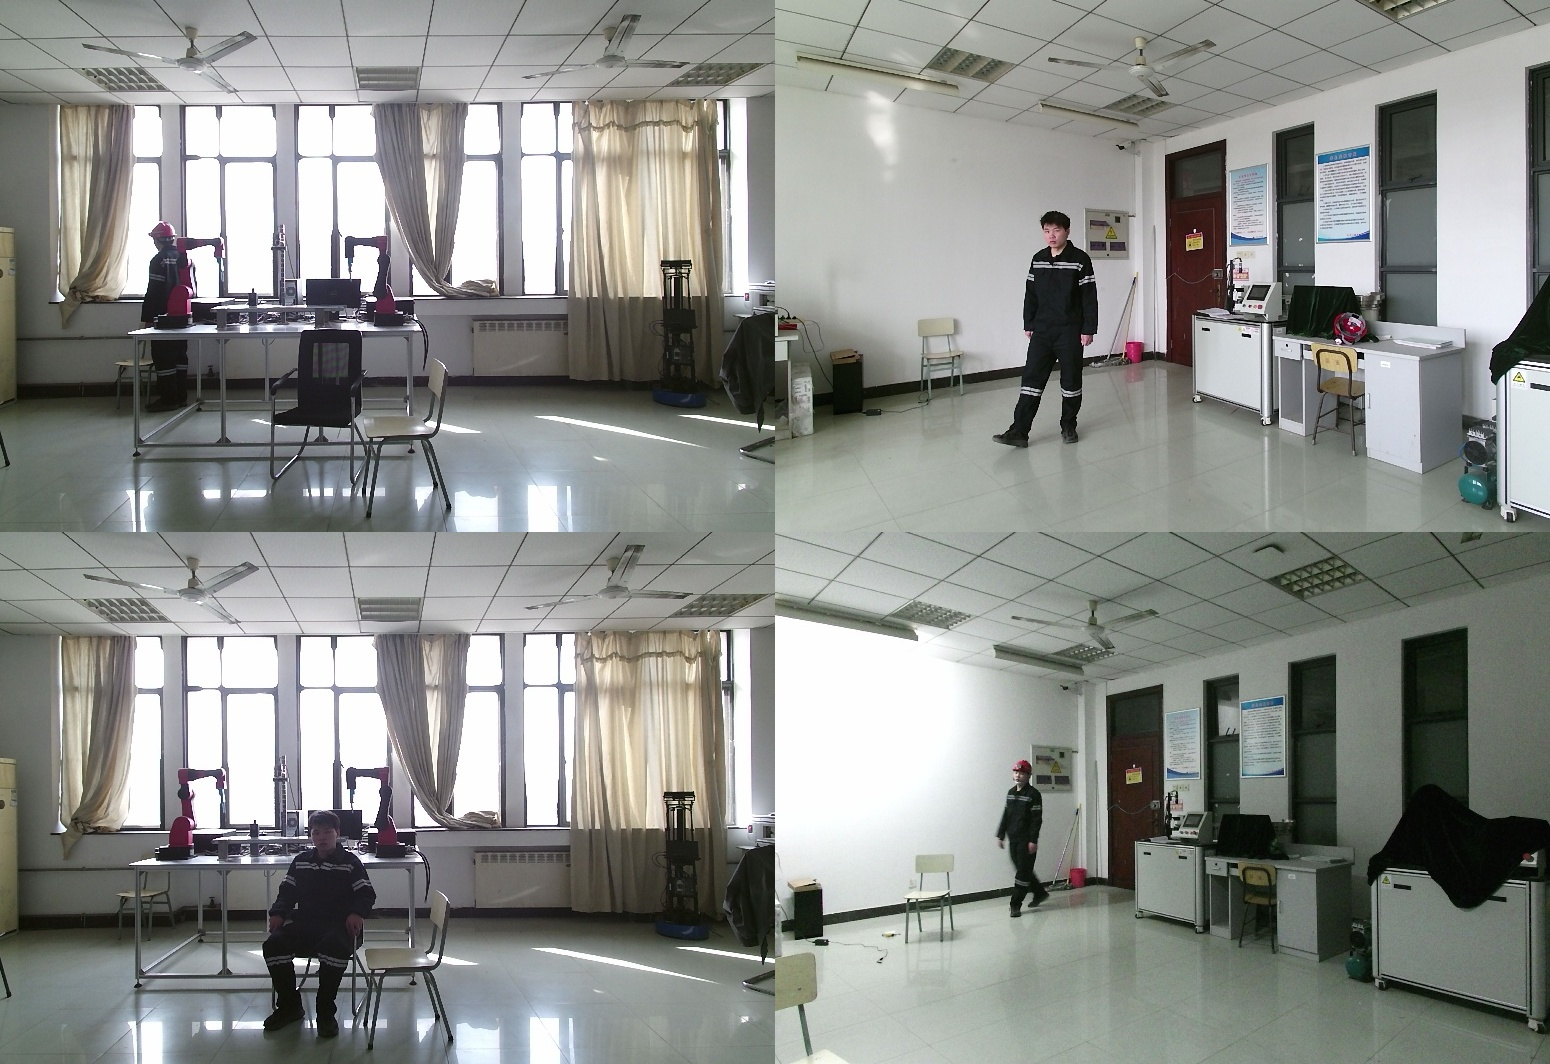person: (994, 213, 1108, 445), (261, 812, 383, 1030), (140, 222, 190, 423), (1004, 763, 1050, 921)
